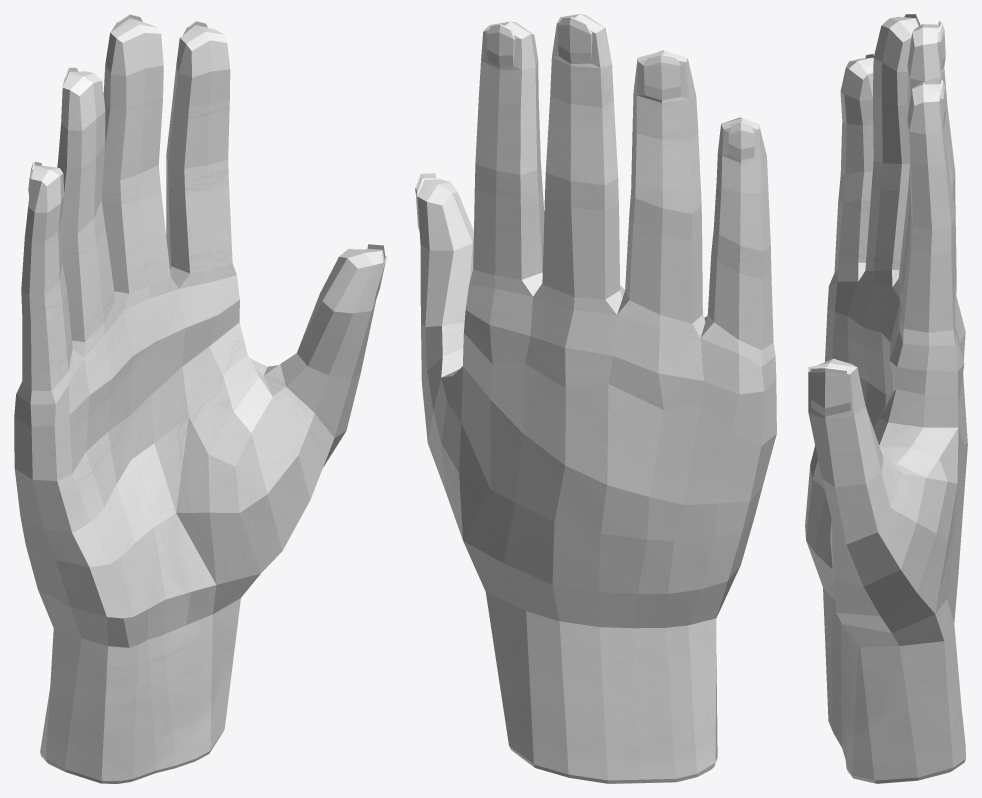
File: r_hard_open.glb
The picture shows the model from 3 angles, left to right: view 1: azimuth 30°, elevation 25°; view 2: azimuth 150°, elevation 25°; view 3: azimuth 270°, elevation 25°; orthographic projection. The views are drawn at different scales.
Parts seen in each view (by area): view 1: R_Hard_Open; view 2: R_Hard_Open; view 3: R_Hard_Open.
Part boxes in pixels (bbox=[...]): R_Hard_Open: bbox=[14, 14, 386, 783]; R_Hard_Open: bbox=[415, 14, 776, 783]; R_Hard_Open: bbox=[805, 14, 967, 783].
Bounding box in the file's own units: 0.1276 × 0.2525 × 0.0503.
1 material, 1 textured.
